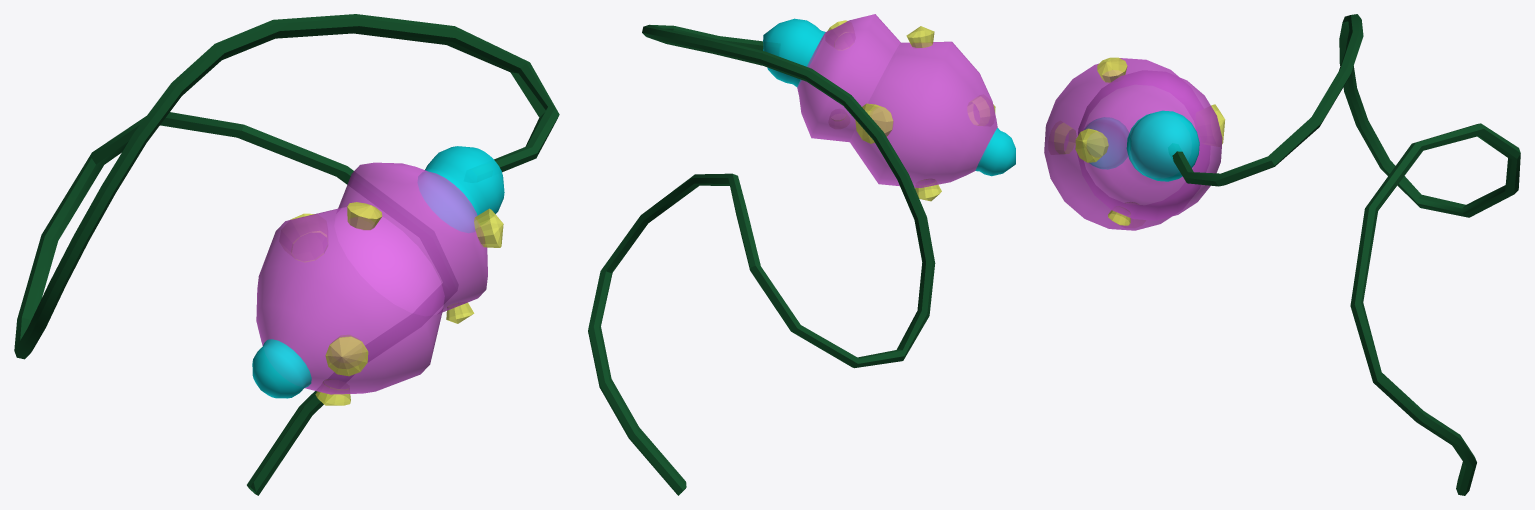
Rendered from Mushroom2.fbx.
3 renders of one model, left to right at view 1: azimuth 30°, elevation 25°; view 2: azimuth 150°, elevation 25°; view 3: azimuth 270°, elevation 25°, orthographic. The views are drawn at different scales.
Parts seen in each view (by area): view 1: round_flower_geo; view 2: round_flower_geo; view 3: round_flower_geo.
Boxes of the visible parts, <box> form: round_flower_geo: <box>14,14,559,495</box>; round_flower_geo: <box>588,14,1015,495</box>; round_flower_geo: <box>1044,14,1520,495</box>.
Bounding box in the file's own units: 0.7604 × 0.8918 × 0.8629.
